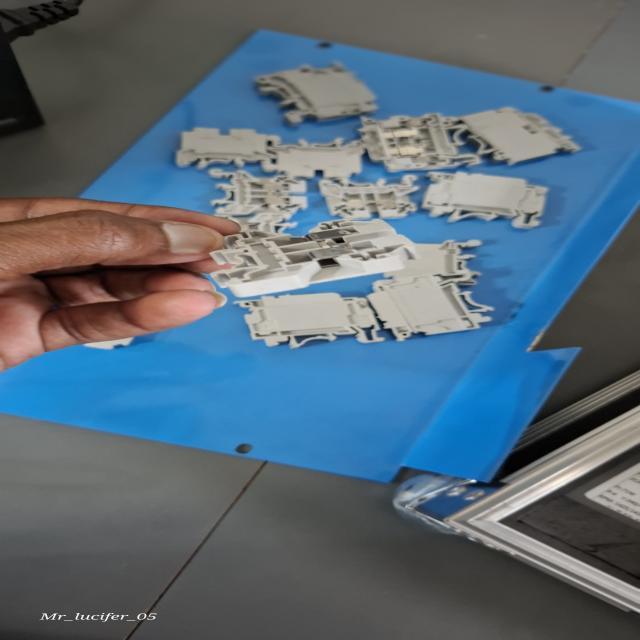Pass: (193, 209, 422, 301)
